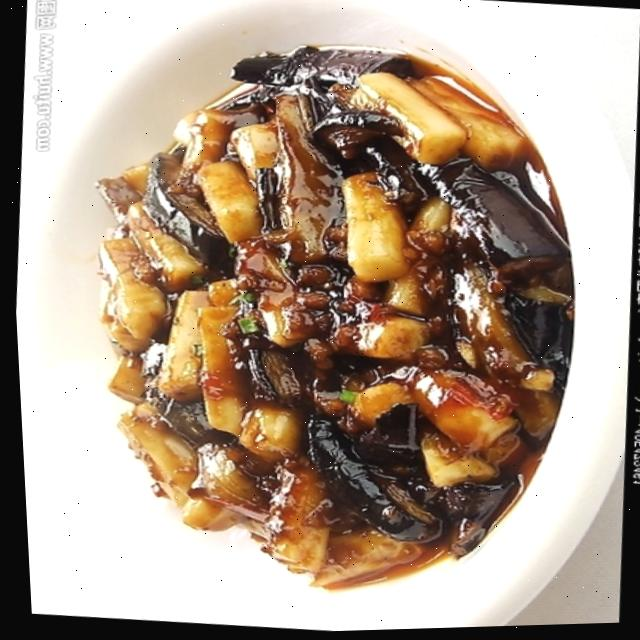鸡蛋料理: (28, 10, 640, 639)
